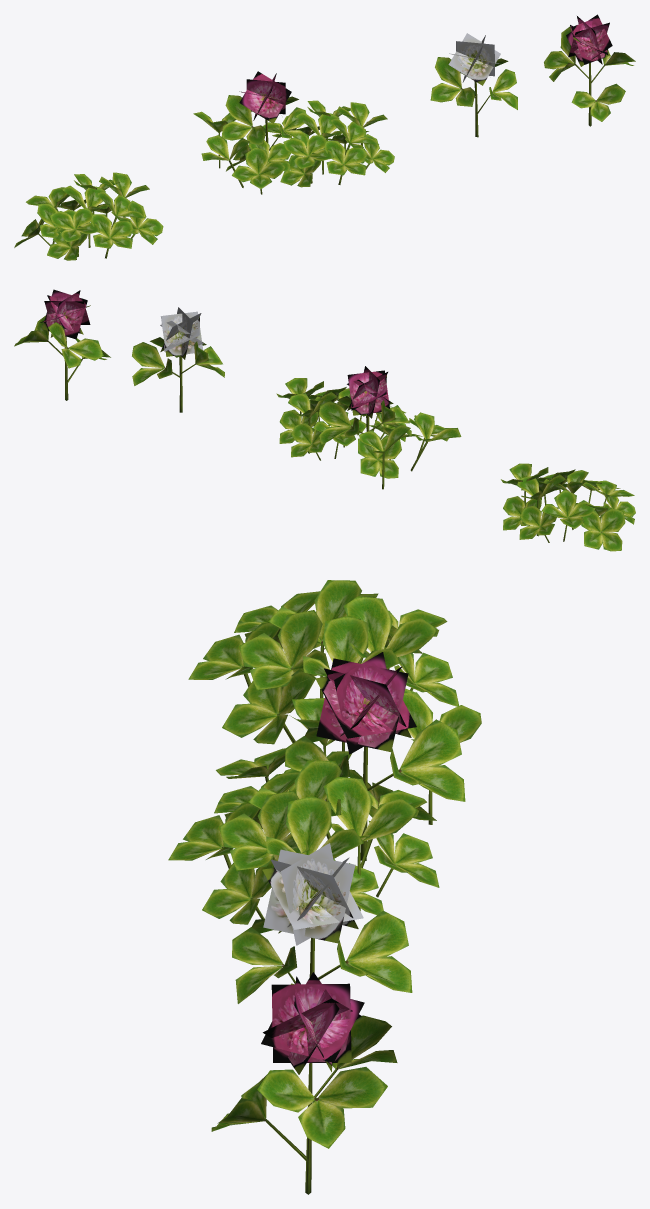
The model's file is red_clover_m.FBX.
3 views of the same model, one above another, from view 1: azimuth 30°, elevation 25°; view 2: azimuth 150°, elevation 25°; view 3: azimuth 270°, elevation 25° (orthographic). The views are drawn at different scales.
Visible parts, largest first — view 1: red_Clover004, red_Clover039, red_Clover021, red_Clover023, red_Clover027, red_Clover015, red_Clover031, red_Clover008, red_Clover025, red_Clover011, red_Clover032, red_Clover017 (+11 smaller); view 2: red_Clover039, red_Clover021, red_Clover004, red_Clover035, red_Clover019, red_Clover034, red_Clover036, red_Clover020, red_Clover011, red_Clover024, red_Clover030, red_Clover018 (+8 smaller); view 3: red_Clover004, red_Clover039, red_Clover021, red_Clover029, red_Clover013, red_Clover025, red_Clover014, red_Clover012, red_Clover033, red_Clover016, red_Clover028, red_Clover020 (+11 smaller).
Part boxes in pixels (x1,y1,x2,y2): red_Clover004: (544, 14, 635, 126); red_Clover039: (430, 33, 517, 137); red_Clover021: (221, 71, 308, 150); red_Clover023: (232, 147, 285, 194); red_Clover027: (90, 214, 133, 258); red_Clover015: (324, 141, 366, 184); red_Clover031: (50, 208, 100, 256); red_Clover008: (283, 134, 333, 183); red_Clover025: (124, 200, 163, 244); red_Clover011: (201, 135, 249, 187); red_Clover032: (47, 226, 87, 260); red_Clover017: (280, 152, 321, 187); red_Clover039: (132, 307, 224, 412); red_Clover021: (318, 366, 411, 444); red_Clover004: (14, 289, 110, 400); red_Clover035: (581, 508, 625, 551); red_Clover019: (358, 435, 401, 478); red_Clover034: (541, 489, 595, 541); red_Clover036: (519, 505, 558, 542); red_Clover020: (291, 423, 329, 460); red_Clover011: (410, 412, 461, 471); red_Clover024: (359, 424, 410, 489); red_Clover030: (503, 496, 541, 530); red_Clover018: (279, 409, 318, 443); red_Clover004: (211, 972, 397, 1194); red_Clover039: (232, 843, 412, 1003); red_Clover021: (285, 652, 465, 860); red_Clover029: (239, 610, 329, 690); red_Clover013: (219, 790, 309, 870); red_Clover025: (222, 669, 315, 744); red_Clover014: (323, 776, 417, 910); red_Clover012: (266, 796, 363, 858); red_Clover033: (343, 596, 437, 657); red_Clover016: (202, 861, 274, 924); red_Clover028: (303, 615, 400, 751); red_Clover020: (369, 821, 439, 897).
Size of the model in its own units: 156 by 28.67 by 34.97.
